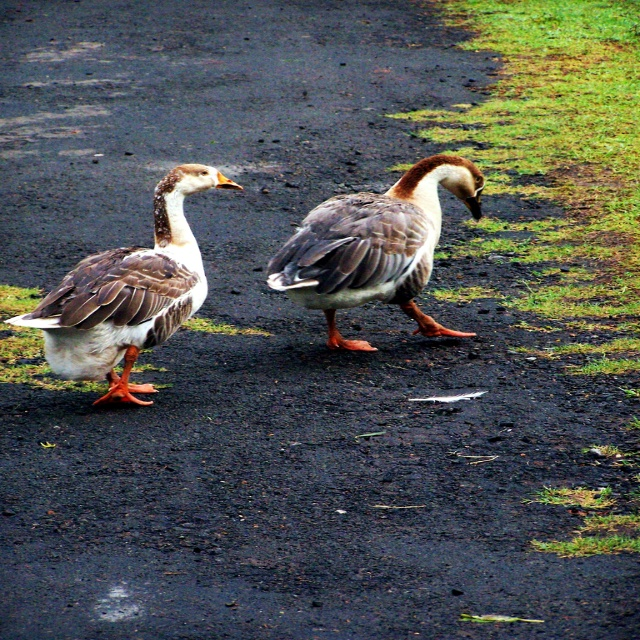Goose: (7, 158, 245, 411), (245, 146, 494, 347)
